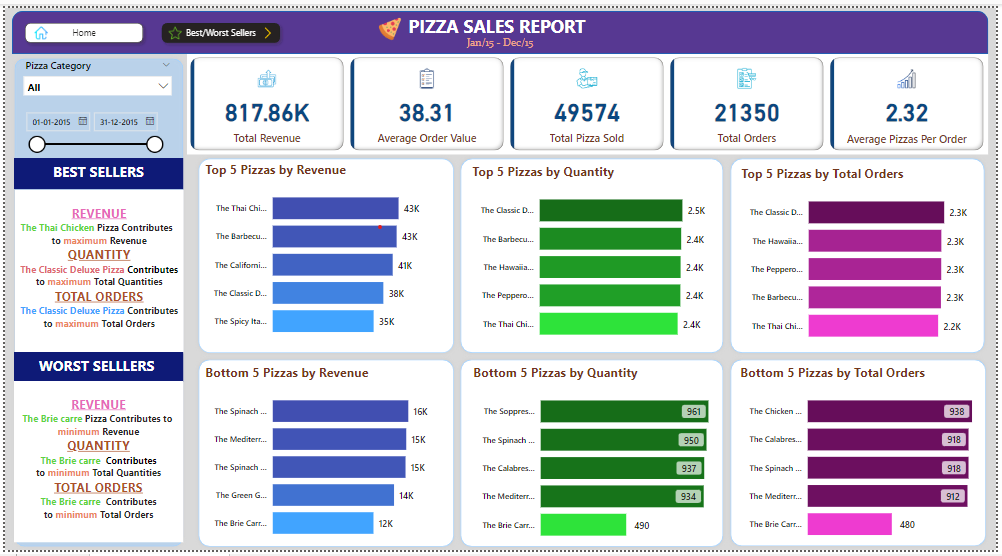

The page's visual inventory and layout, read from the dashboard file:
{"tool":"powerbi","page":{"name":"Best/Worst Sellers","canvas":[1500,820],"ordinal":1},"visuals":[{"type":"cardVisual","fields":{"Data":["pizza_sales.Total Revenue","pizza_sales.Average Order Value","pizza_sales.Total Pizza Sold","pizza_sales.Total Orders","pizza_sales.Average Pizzas Per Order"]},"box":[275,70,1211.7,151.7],"z":0},{"type":"shape","box":[287.3,527,396.8,293.7],"z":0,"group":"g2"},{"type":"shape","box":[10,5,1476.7,65],"z":1000},{"type":"barChart","title":"Bottom 5 Pizzas by Revenue","fields":{"Category":["pizza_sales.pizza_name"],"Y":["pizza_sales.Total Revenue"]},"box":[297.5,538.4,374.8,279.7],"z":1000,"group":"g2"},{"type":"textbox","box":[605,5,286.7,46.7],"z":2000},{"type":"textbox","box":[683.3,38.3,130,31.7],"z":3000},{"type":"shape","box":[8.6,71.4,265.7,748.6],"z":4000},{"type":"image","box":[560,8.3,45,45],"z":5000},{"type":"textbox","box":[13.6,227.3,255.7,46.6],"z":6000},{"type":"textbox","box":[14.8,275,254.5,246.6],"z":7000},{"type":"shape","box":[287.3,222.2,396.8,304.8],"z":8000,"group":"g1"},{"type":"textbox","box":[13.6,520.5,255.7,45.5],"z":8000},{"type":"textbox","box":[13.6,563.6,255.7,244.3],"z":9000},{"type":"slicer","fields":{"Values":["pizza_sales.pizza_category"]},"box":[18.9,71.1,244.4,61.1],"z":10000},{"type":"slicer","fields":{"Values":["pizza_sales.order_date"]},"box":[20,147.8,227.8,74.4],"z":11000},{"type":"shape","box":[684.1,222.2,407.9,304.8],"z":12000},{"type":"shape","box":[1091.7,221.7,395,305],"z":13000},{"type":"shape","box":[684.1,527,407.9,293.7],"z":14000},{"type":"shape","box":[1091.7,526.7,396.7,293.3],"z":15000},{"type":"barChart","title":"Top 5 Pizzas by Quantity","fields":{"Category":["pizza_sales.pizza_name"],"Y":["pizza_sales.Total Pizza Sold"]},"box":[701.6,234.9,376.2,282.5],"z":16000},{"type":"group","id":"g1","title":"Group 1","box":[287.3,222.2,396.8,304.8],"z":17000},{"type":"group","id":"g2","title":"Group 2","box":[287.3,527,396.8,293.7],"z":18000},{"type":"barChart","title":"Bottom 5 Pizzas by Quantity","fields":{"Category":["pizza_sales.pizza_name"],"Y":["pizza_sales.Total Pizza Sold"]},"box":[703.2,538.1,376.2,282.5],"z":19000},{"type":"barChart","title":"Top 5 Pizzas by Total Orders","fields":{"Category":["pizza_sales.pizza_name"],"Y":["pizza_sales.Total Orders"]},"box":[1109.5,238.1,376.2,282.5],"z":20000},{"type":"barChart","title":"Top 5 Pizzas by Revenue","fields":{"Category":["pizza_sales.pizza_name"],"Y":["pizza_sales.Total Revenue"]},"box":[297.3,231.9,375.2,282.1],"z":20006,"group":"g1"},{"type":"barChart","title":"Bottom 5 Pizzas by Total Orders","fields":{"Category":["pizza_sales.pizza_name"],"Y":["pizza_sales.Total Orders"]},"box":[1107.7,538.5,376.9,282.1],"z":21000},{"type":"pageNavigator","box":[21,13.1,404.5,48.9],"z":23500},{"type":"image","box":[375,24.4,44.9,26.7],"z":24000},{"type":"image","box":[35.2,22.2,38.6,30.1],"z":25000},{"type":"image","box":[240.3,22.2,34.1,29.5],"z":26000}]}

Visuals, with their boxes in screenshot pixels (x1, y1, x2, y2), scaled from the page's 1500x820 canvas onto the 1002x556 screenshot:
cardVisual - pizza_sales.Total Revenue x pizza_sales.Average Order Value: <box>184,47,993,150</box>
shape: <box>192,357,457,555</box>
shape: <box>7,3,993,47</box>
"Bottom 5 Pizzas by Revenue" barChart: <box>199,365,449,555</box>
textbox: <box>404,3,596,35</box>
textbox: <box>456,26,543,47</box>
shape: <box>6,48,183,555</box>
image: <box>374,6,404,36</box>
textbox: <box>9,154,180,186</box>
textbox: <box>10,186,180,354</box>
shape: <box>192,151,457,357</box>
textbox: <box>9,353,180,384</box>
textbox: <box>9,382,180,548</box>
slicer - pizza_sales.pizza_category: <box>13,48,176,90</box>
slicer - pizza_sales.order_date: <box>13,100,166,151</box>
shape: <box>457,151,729,357</box>
shape: <box>729,150,993,357</box>
shape: <box>457,357,729,555</box>
shape: <box>729,357,994,555</box>
"Top 5 Pizzas by Quantity" barChart: <box>469,159,720,351</box>
"Group 1" group: <box>192,151,457,357</box>
"Group 2" group: <box>192,357,457,555</box>
"Bottom 5 Pizzas by Quantity" barChart: <box>470,365,721,555</box>
"Top 5 Pizzas by Total Orders" barChart: <box>741,161,992,353</box>
"Top 5 Pizzas by Revenue" barChart: <box>199,157,449,349</box>
"Bottom 5 Pizzas by Total Orders" barChart: <box>740,365,992,555</box>
pageNavigator: <box>14,9,284,42</box>
image: <box>251,17,280,35</box>
image: <box>24,15,49,35</box>
image: <box>161,15,183,35</box>
